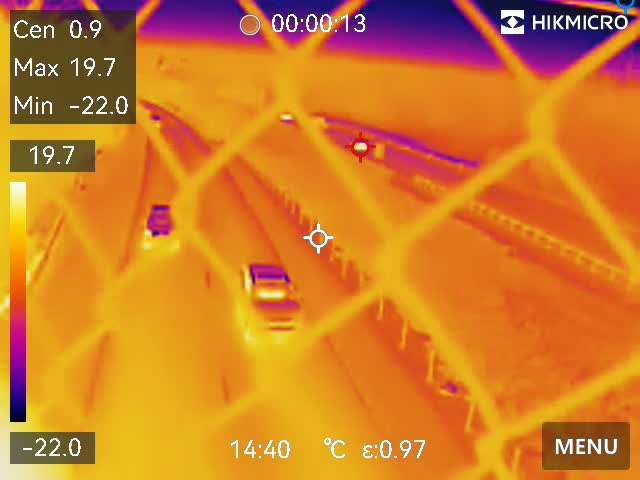vehicle: (238, 258, 308, 339), (144, 198, 178, 242)
